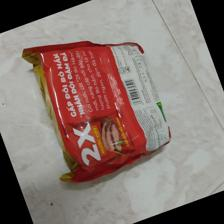3mien: (21, 40, 172, 185)
